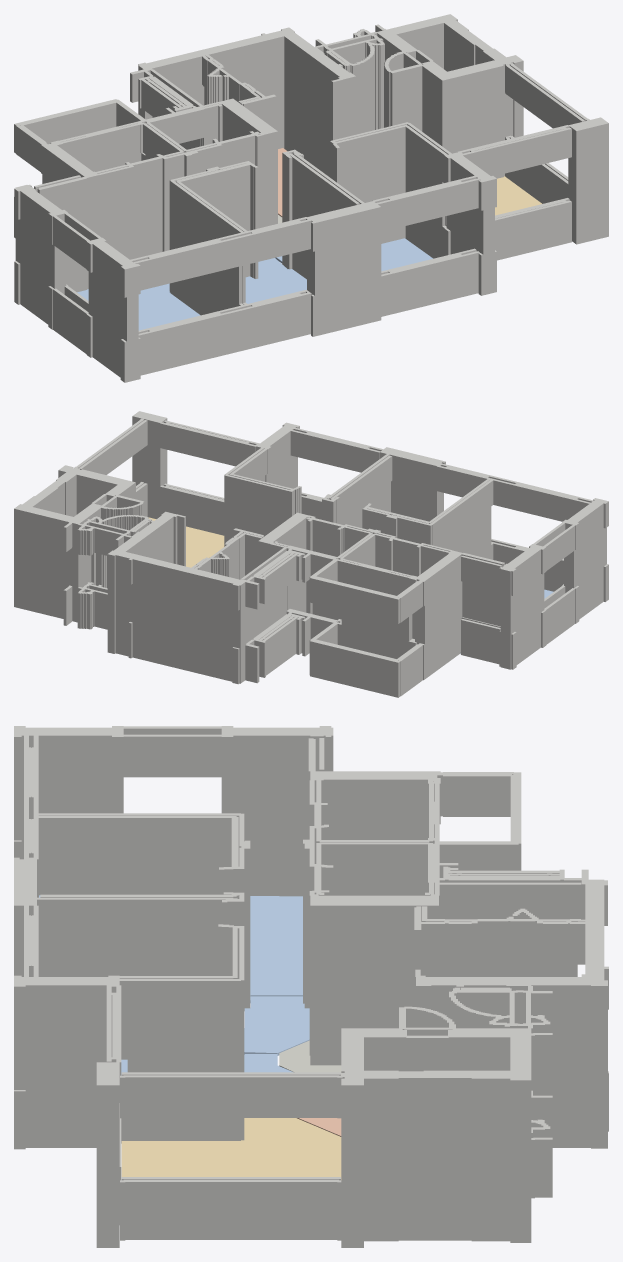
The picture shows the model from 3 angles, top to bottom: view 1: azimuth 30°, elevation 25°; view 2: azimuth 150°, elevation 25°; view 3: azimuth 270°, elevation 25°; orthographic projection. The views are drawn at different scales.
Visible parts, largest first — view 1: walls, room:bedroom:0, room:bedroom:7, room:bedroom:9, room:living:8; view 2: walls, room:living:8; view 3: walls, room:living:8, room:bedroom:0, room:bedroom:7, room:yard:2, room:bedroom:9.
Boxes of the visible parts, x1,y1,x2,y2 form: walls: [14, 14, 608, 382]; room:bedroom:0: [77, 283, 200, 330]; room:bedroom:7: [245, 258, 306, 303]; room:bedroom:9: [275, 238, 432, 271]; room:living:8: [495, 176, 541, 215]; walls: [14, 411, 608, 697]; room:living:8: [148, 517, 224, 567]; walls: [14, 726, 608, 1247]; room:living:8: [121, 1118, 341, 1179]; room:bedroom:0: [39, 895, 302, 996]; room:bedroom:7: [244, 996, 309, 1055]; room:yard:2: [279, 1040, 341, 1075]; room:bedroom:9: [121, 1054, 293, 1075].
Bounding box in the file's own units: 13.25 × 2.8 × 9.28.
